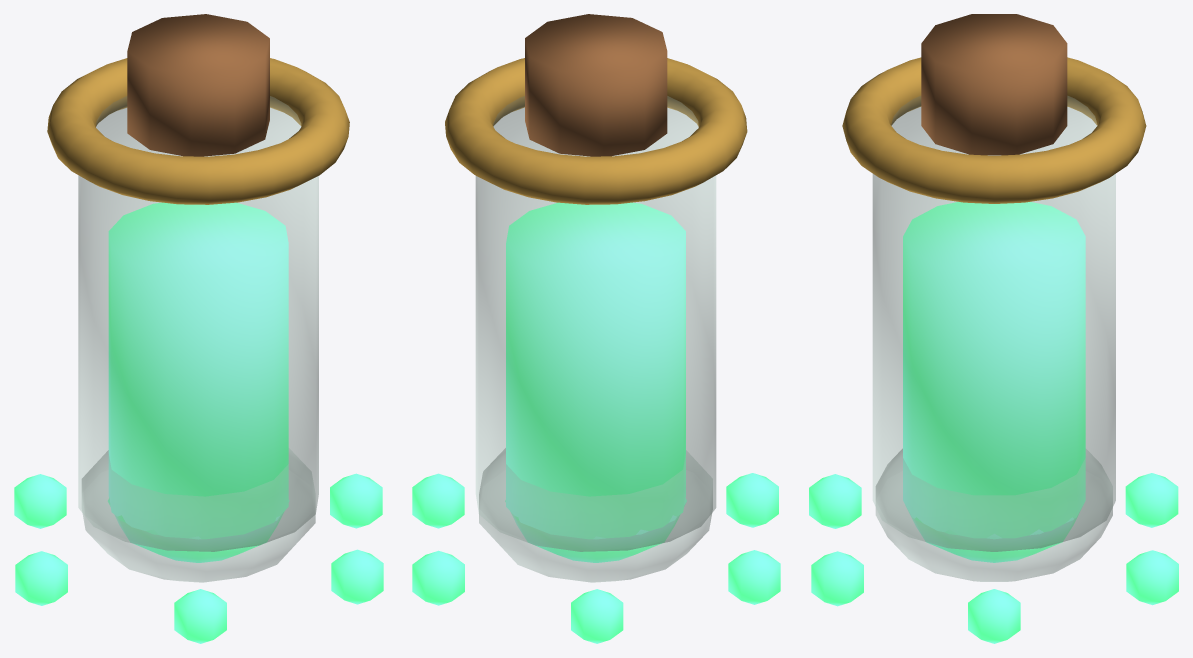
Rendered from gruene_ladung.glb.
3 renders of one model, left to right at view 1: azimuth 30°, elevation 25°; view 2: azimuth 150°, elevation 25°; view 3: azimuth 270°, elevation 25°, orthographic.
Parts seen in each view (by area): view 1: Cone; view 2: Cone; view 3: Cone.
Boxes of the visible parts, box(x1,y1,x2,y2) form: Cone: box(14, 14, 383, 643); Cone: box(412, 14, 780, 643); Cone: box(809, 14, 1178, 643).
Bounding box in the file's own units: 0.0675 × 0.095 × 0.0608.
